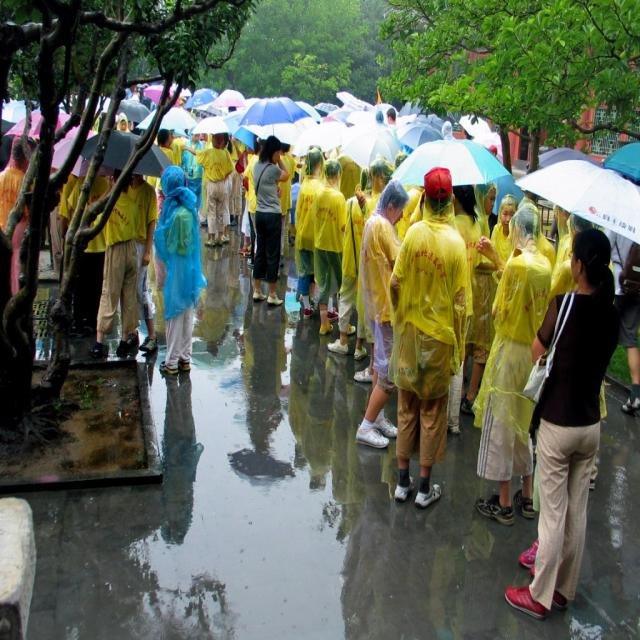body: (502, 225, 622, 622), (387, 162, 472, 510), (470, 201, 554, 527), (546, 209, 615, 494), (356, 178, 410, 448), (152, 162, 207, 373), (444, 184, 484, 436), (148, 371, 204, 550), (90, 168, 140, 358), (327, 167, 373, 361), (311, 155, 360, 337), (285, 312, 332, 492), (601, 227, 640, 416), (66, 174, 110, 338), (251, 131, 290, 307), (125, 172, 159, 354), (245, 308, 282, 462), (186, 132, 229, 249), (295, 146, 324, 316), (200, 257, 239, 369), (240, 135, 268, 279), (510, 195, 558, 273), (58, 172, 80, 324), (392, 148, 426, 245), (0, 138, 33, 232), (488, 193, 521, 287), (517, 449, 539, 574), (180, 124, 206, 224), (438, 121, 500, 162), (286, 155, 306, 277), (10, 222, 34, 321), (216, 132, 236, 242), (276, 141, 292, 270), (48, 147, 63, 279), (154, 128, 175, 220), (472, 178, 500, 241), (552, 201, 574, 280), (111, 81, 158, 113), (240, 146, 251, 262), (0, 88, 15, 165), (368, 162, 396, 198), (24, 126, 44, 171), (375, 103, 399, 129), (353, 168, 373, 198), (174, 86, 192, 118), (170, 121, 186, 152), (226, 125, 238, 163), (321, 141, 343, 160), (116, 111, 132, 133), (200, 132, 212, 152), (227, 101, 238, 118), (374, 151, 388, 160)
